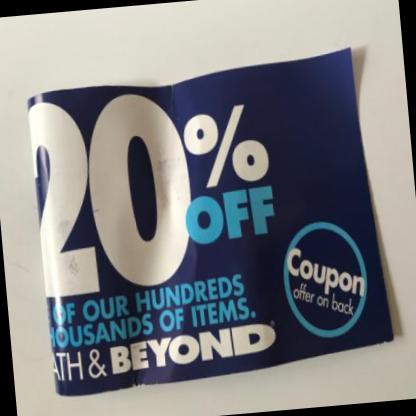Paper: (29, 48, 393, 396)
